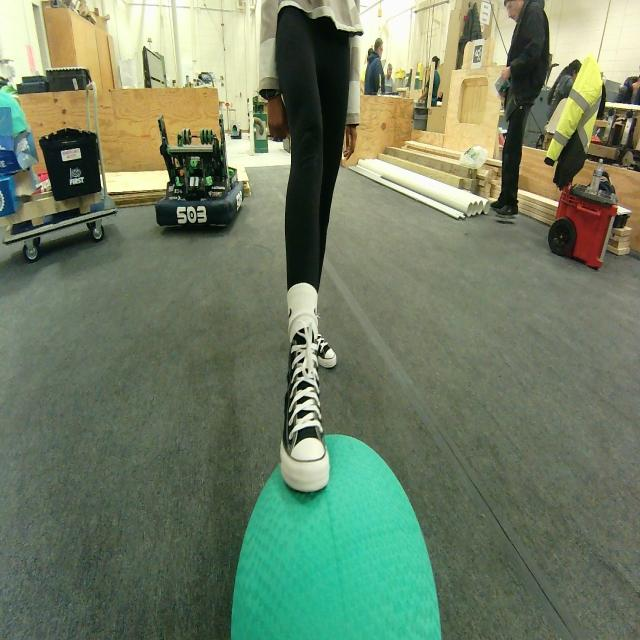algae: (229, 433, 449, 640)
